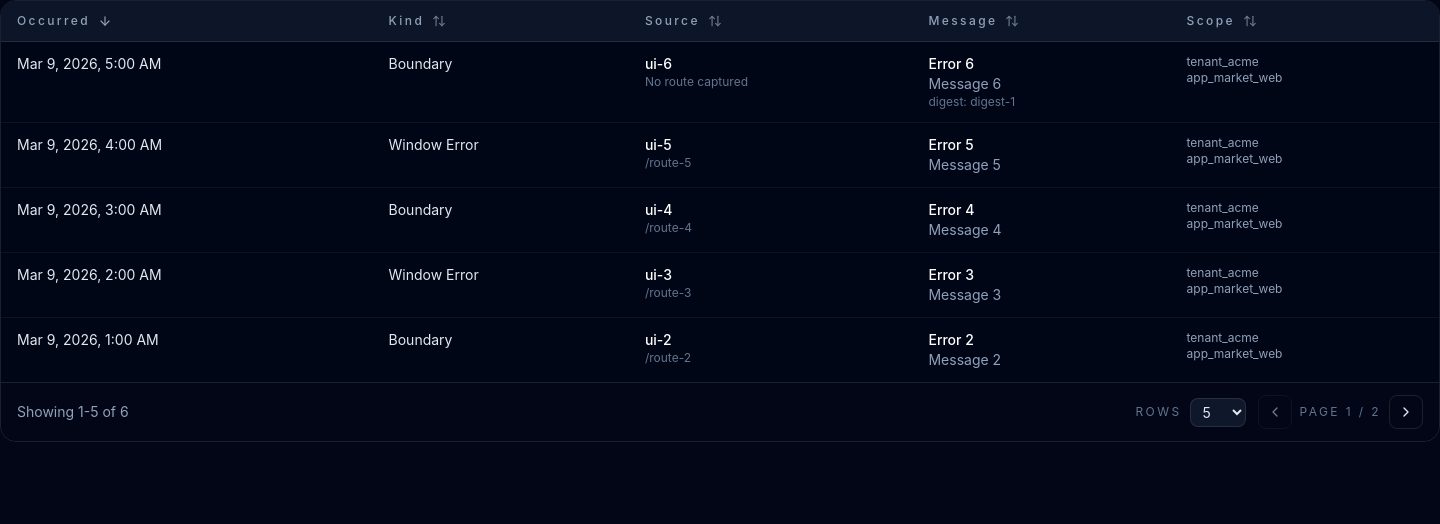
ClientErrorsTable › sorts newest errors first and can expand the visible page size
This screenshot has width=1440, height=524.
Check: the text "Error 6" is shown, box [928,55,974,72]
Check: the text "Error 1" is not shown
Select "10" in the dropdown at (1218, 412), box [1190,398,1246,426]
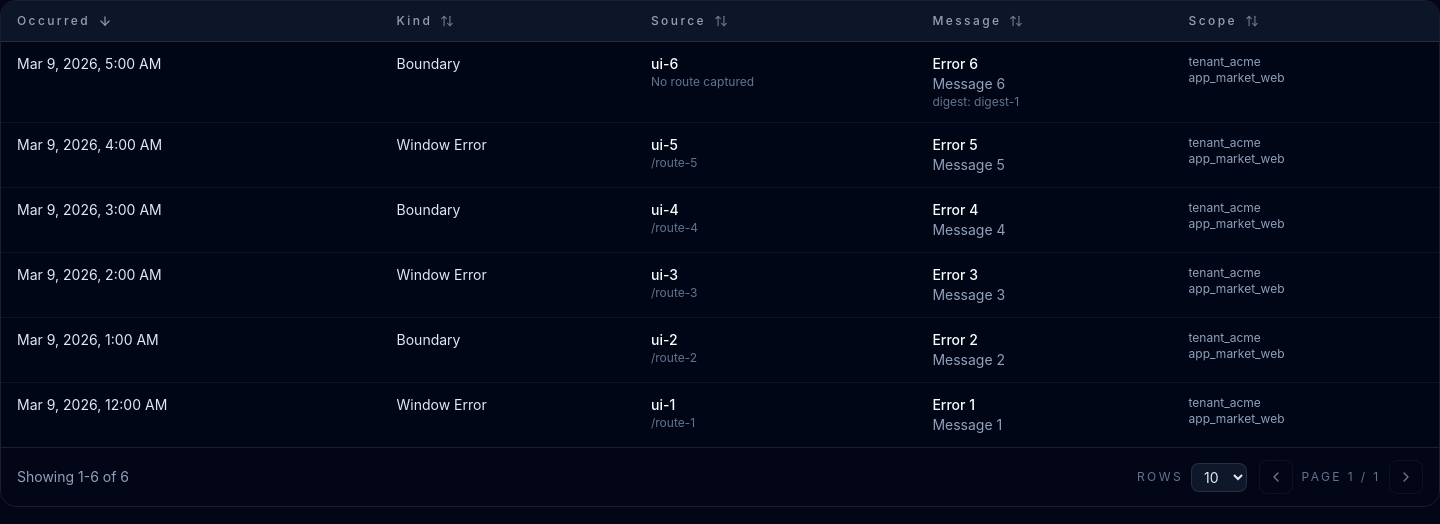
Check: the text "Error 1" is shown, box [932,396,975,413]
Check: the text "Showing 1-6 of 6" is shown, box [17,467,129,487]
